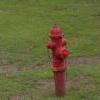Hydrant: (37, 16, 73, 95)
